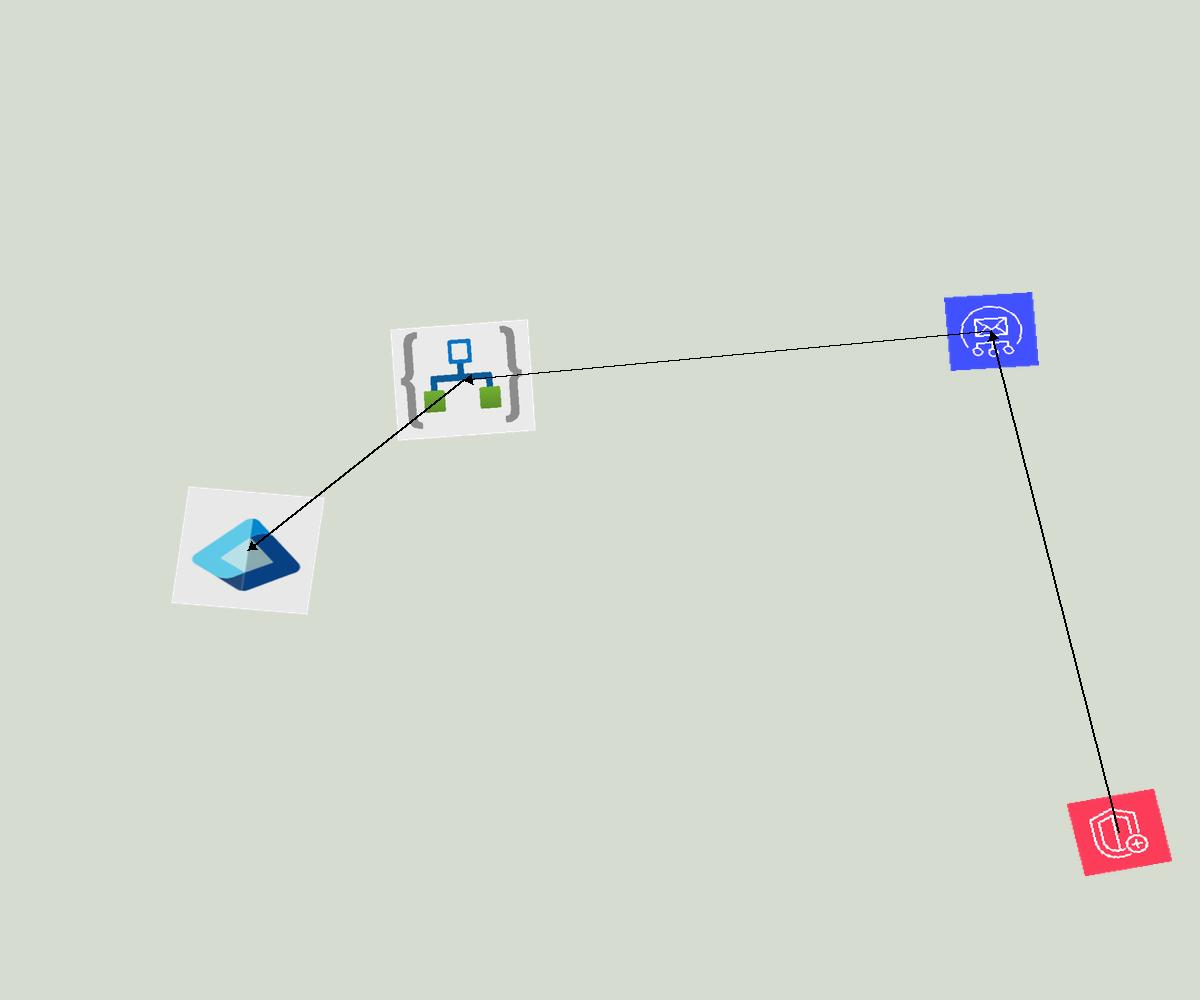AWS-Shield: (1066, 788, 1173, 877)
AWS-Simple-Email-Service: (944, 292, 1039, 371)
Azure_integration-204-Logic-Apps: (390, 319, 536, 441)
Azure_microsoft_entra: (171, 486, 325, 615)
